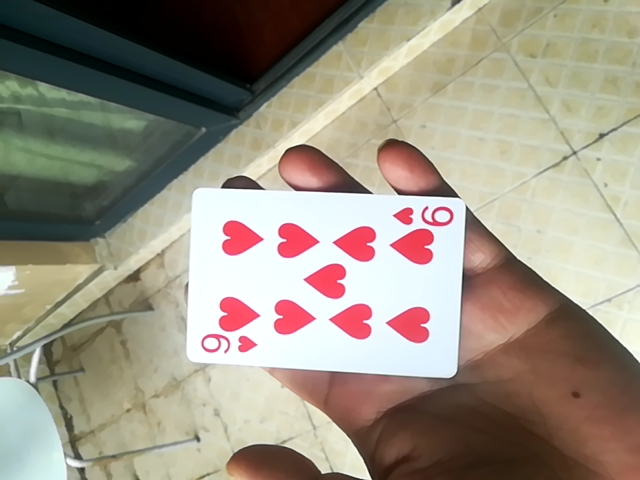hx 9: (178, 180, 466, 376)
